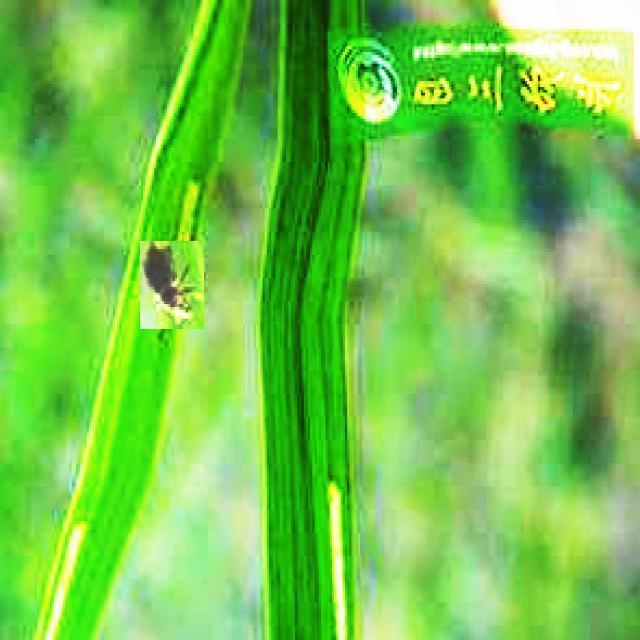rice-bug: (140, 241, 204, 329)
